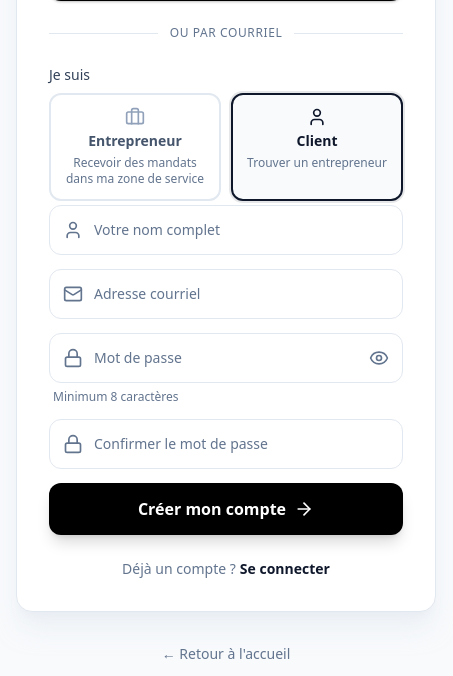
Test: Login Page › toggles between signup and login mode
(page scrolled)
// Click to switch to login
Click the button "Se connecter" at (285, 569), box left=240, top=559, right=330, bottom=579
(page scrolled)
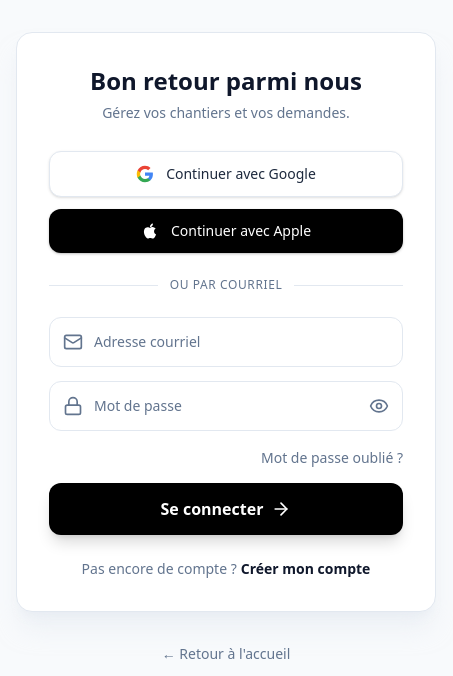
Expected: the field with placeholder "Votre nom complet" is not shown
Now the heading "Bon retour parmi nous" is shown, box left=90, top=64, right=362, bottom=97
